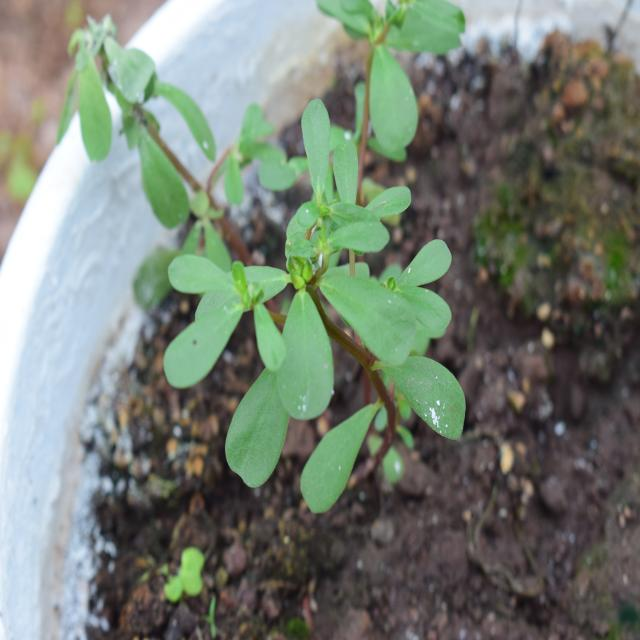purslane: (155, 187, 488, 484), (54, 0, 245, 226)
